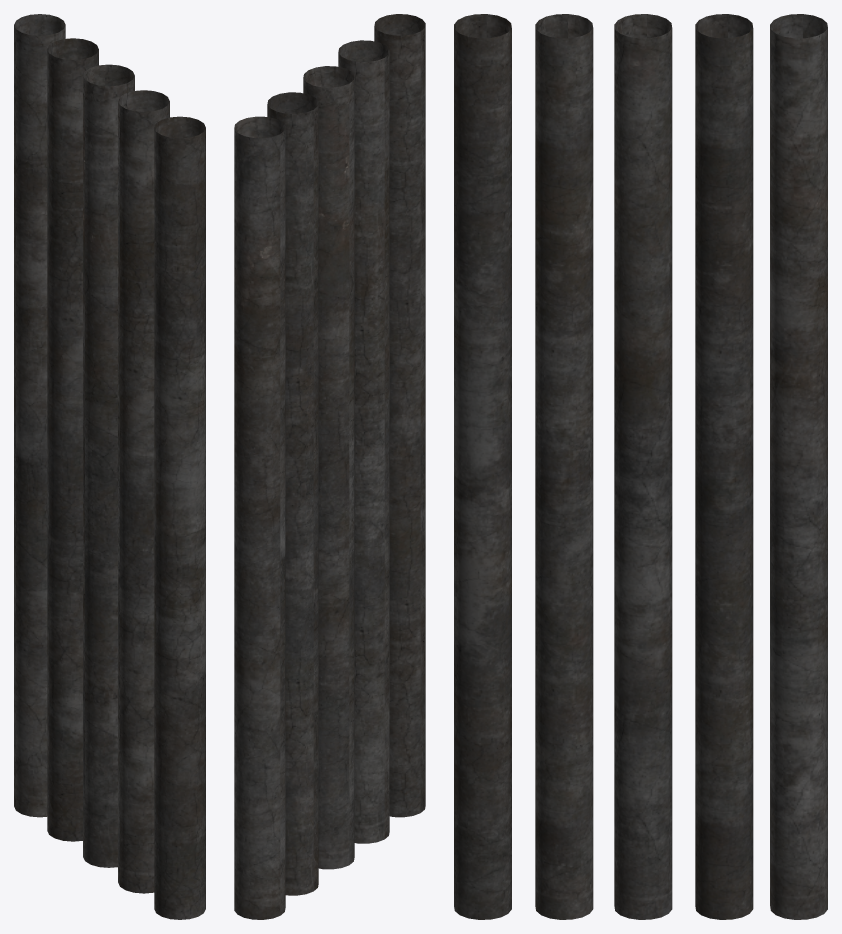
The model's file is Shaft_Pipes_A.glb.
3 views of the same model, side by side, from view 1: azimuth 30°, elevation 25°; view 2: azimuth 150°, elevation 25°; view 3: azimuth 270°, elevation 25° (orthographic). The views are drawn at different scales.
Parts seen in each view (by area): view 1: Shaft_Pipes_A; view 2: Shaft_Pipes_A; view 3: Shaft_Pipes_A.
Boxes of the visible parts, left/top/right/bottom form: Shaft_Pipes_A: left=14, top=14, right=205, bottom=919; Shaft_Pipes_A: left=234, top=14, right=425, bottom=919; Shaft_Pipes_A: left=454, top=14, right=827, bottom=919.
Bounding box in the file's own units: 0.1487 × 2.5 × 0.9612.
Materials: 1 (1 with a texture image).
